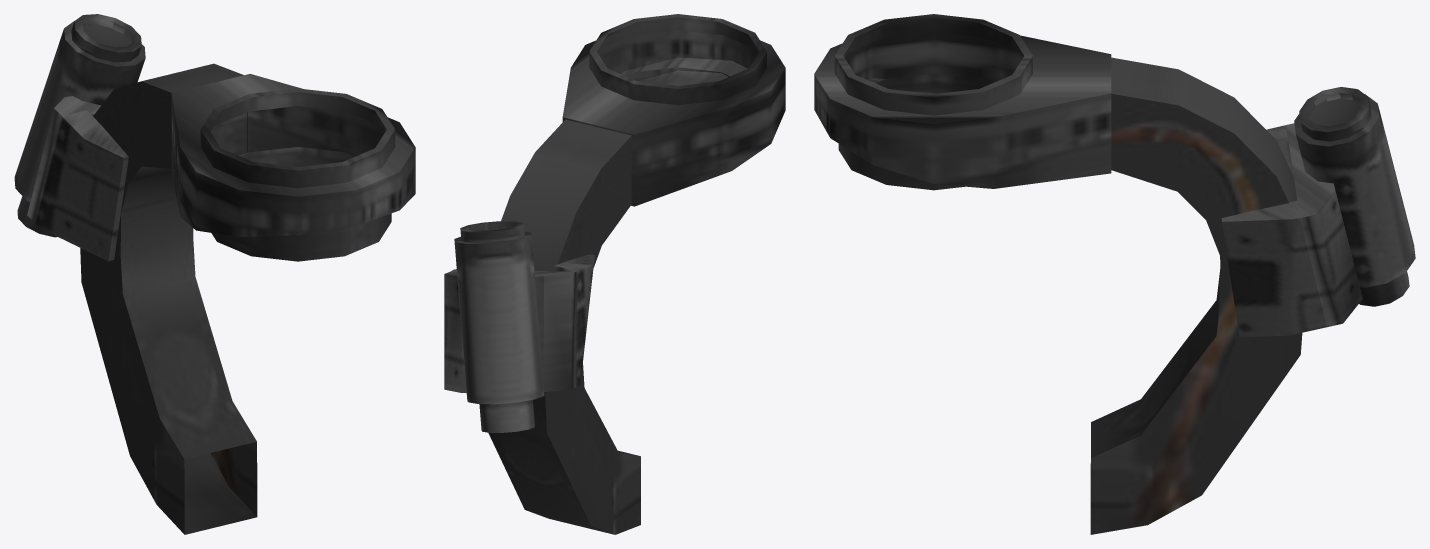
File: Body_SteerRightFront.dae
3 views of the same model, side by side, from view 1: azimuth 30°, elevation 25°; view 2: azimuth 150°, elevation 25°; view 3: azimuth 270°, elevation 25° (orthographic). The views are drawn at different scales.
Visible parts, largest first — view 1: suspension_steer_F_R; view 2: suspension_steer_F_R; view 3: suspension_steer_F_R.
Boxes of the visible parts, bbox=[...] form: suspension_steer_F_R: bbox=[14, 14, 415, 534]; suspension_steer_F_R: bbox=[444, 14, 785, 534]; suspension_steer_F_R: bbox=[814, 14, 1415, 534].
Bounding box in the file's own units: 0.2102 × 0.5284 × 0.4469.
Materials: 2 (2 with a texture image).
